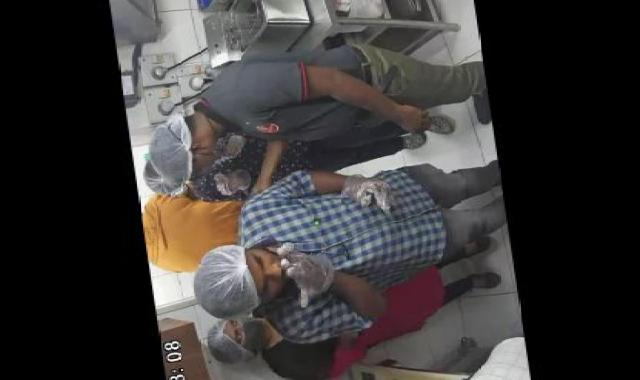hairnet: (190, 238, 258, 324), (204, 315, 269, 367), (147, 118, 200, 181), (145, 164, 187, 198)
